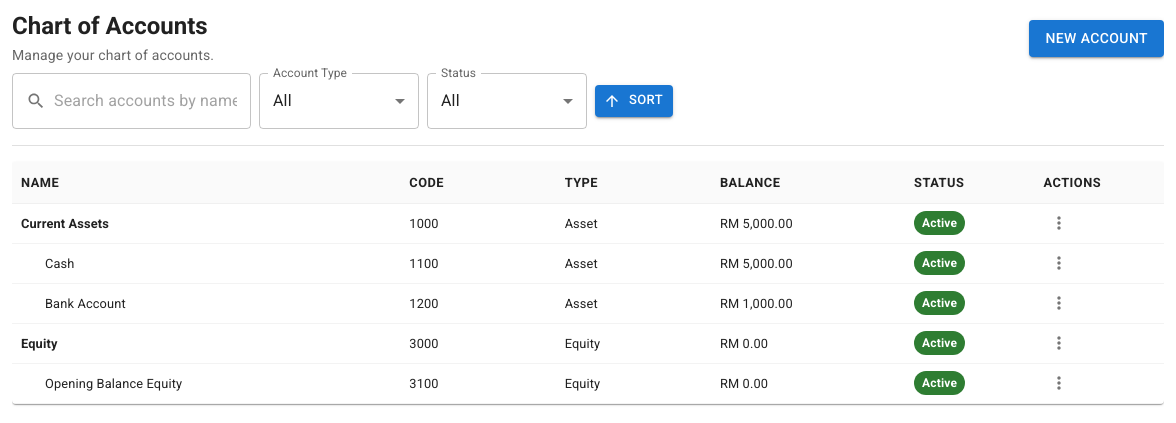
Test case: ChartOfAccountsPage › group row shows only "Add Child Account" in row actions
The width and height of the screenshot is (1176, 423).
Step 1. Click the button named "row actions" in the row of "Current Assets" → click(1058, 223), box [1044,208,1074,238]
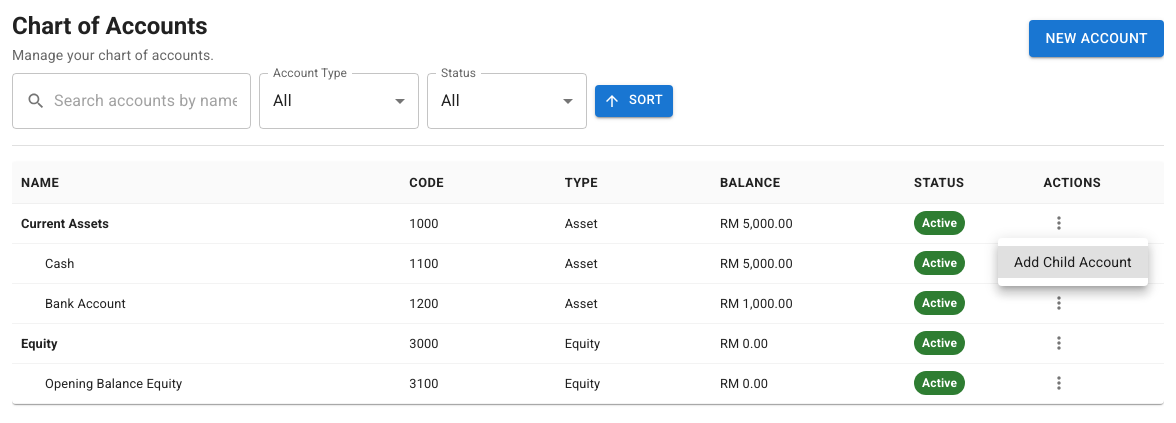
Result: the menu item "Add Child Account" is shown at [998,246,1148,278]
